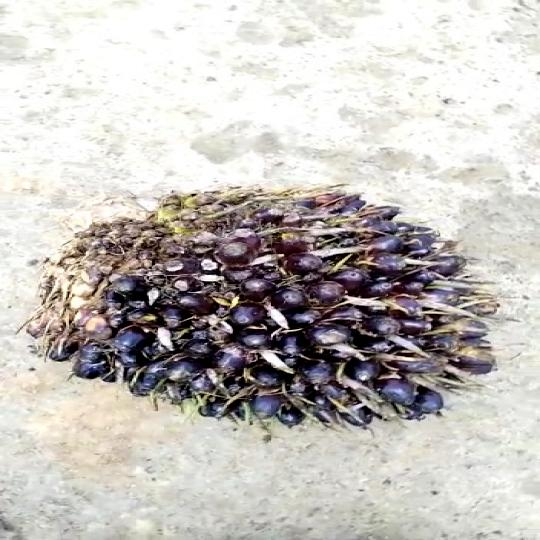mentah: (15, 168, 524, 442)
